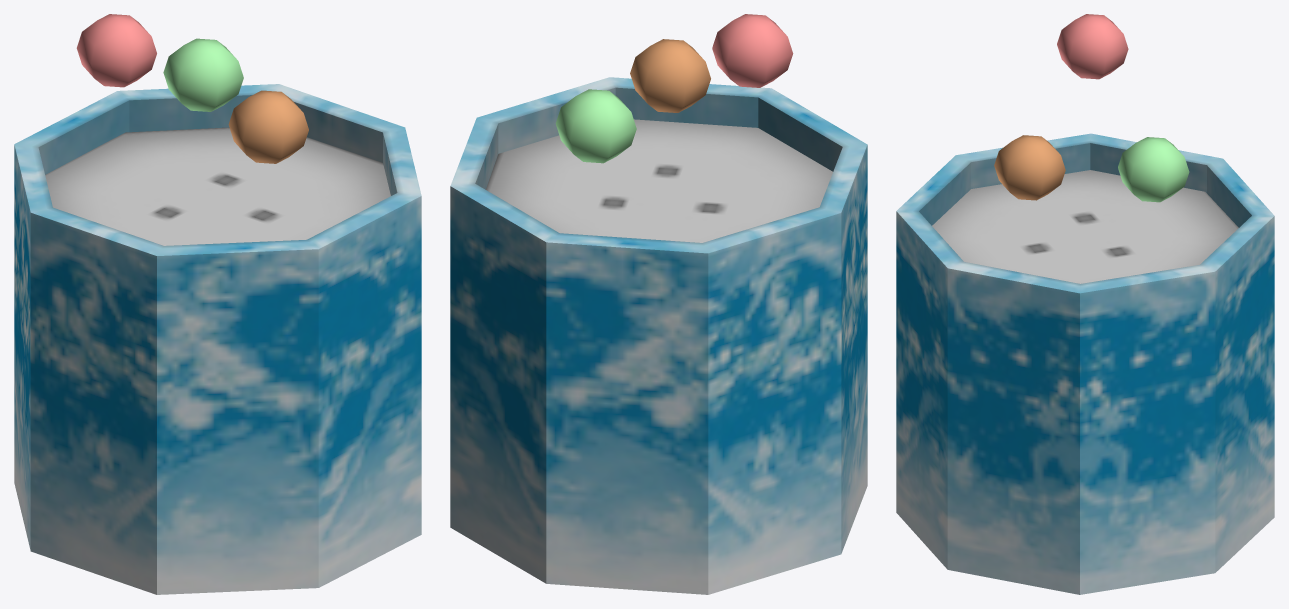
Rendered from blow_machine.DAE.
3 views of the same model, side by side, from view 1: azimuth 30°, elevation 25°; view 2: azimuth 150°, elevation 25°; view 3: azimuth 270°, elevation 25° (orthographic). The views are drawn at different scales.
Visible parts, largest first — view 1: blow_machine; view 2: blow_machine; view 3: blow_machine.
Part boxes in pixels (x1,y1,x2,y2): blow_machine: (14, 14, 421, 594); blow_machine: (450, 14, 867, 594); blow_machine: (896, 14, 1274, 594).
Bounding box in the file's own units: 677 × 677 × 900.
1 material, 1 textured.
